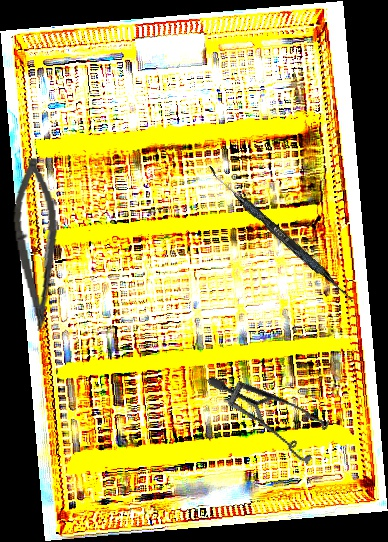Micro Scissor: (7, 156, 68, 333)
Spatula Surgical: (202, 165, 359, 304)
Speculum: (206, 338, 343, 488)
